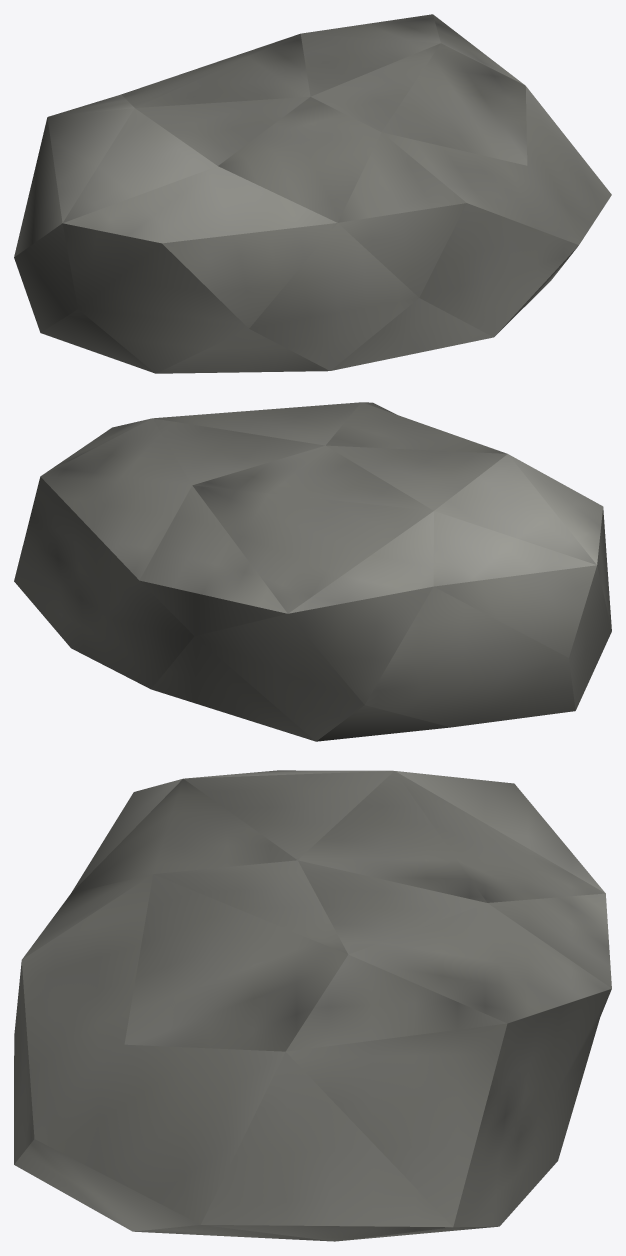
Rendered from SM_Rock_Small01.fbx.
3 views of the same model, one above another, from view 1: azimuth 30°, elevation 25°; view 2: azimuth 150°, elevation 25°; view 3: azimuth 270°, elevation 25° (orthographic). The views are drawn at different scales.
Parts seen in each view (by area): view 1: SM_Rock_Small01; view 2: SM_Rock_Small01; view 3: SM_Rock_Small01.
Boxes of the visible parts, x1,y1,x2,y2 form: SM_Rock_Small01: (14, 14, 611, 373); SM_Rock_Small01: (14, 402, 611, 741); SM_Rock_Small01: (14, 770, 611, 1241).
Bounding box in the file's own units: 1.81 × 0.6091 × 1.29.
Materials: 1 (1 with a texture image).
